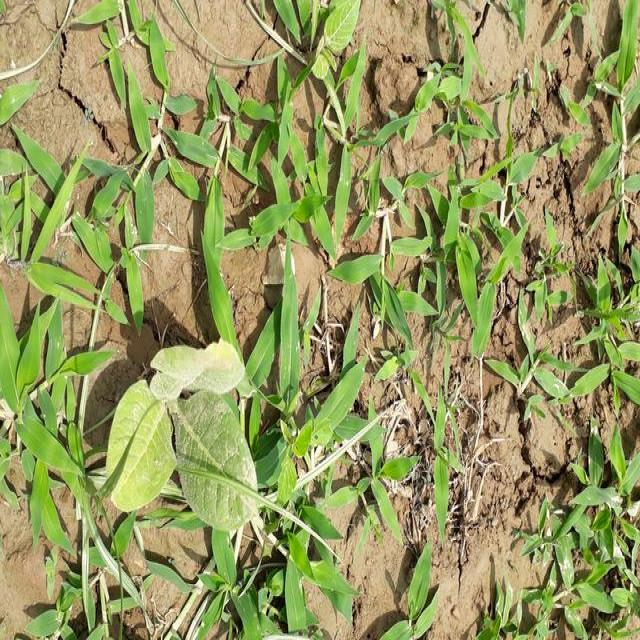crop: (108, 314, 260, 546)
